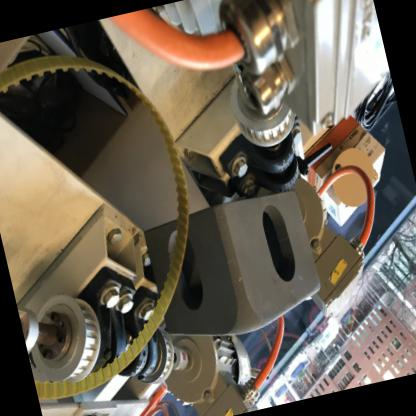CornerCasting: (139, 181, 333, 354)
